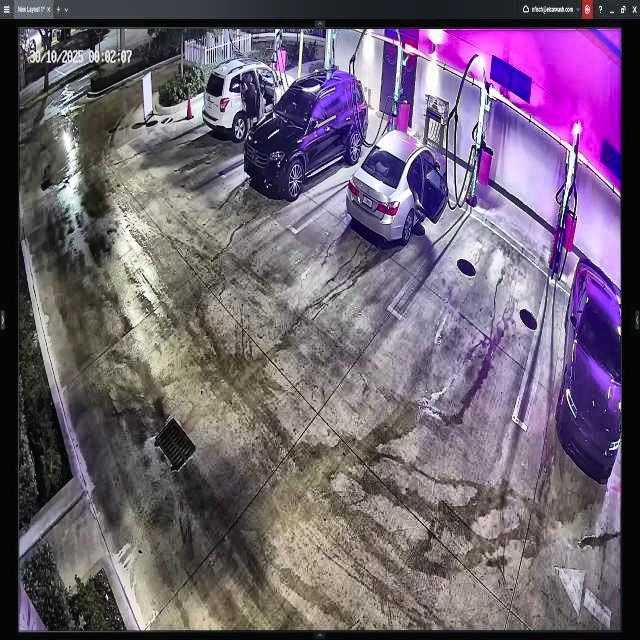Car: (246, 67, 368, 197), (346, 132, 450, 246)
